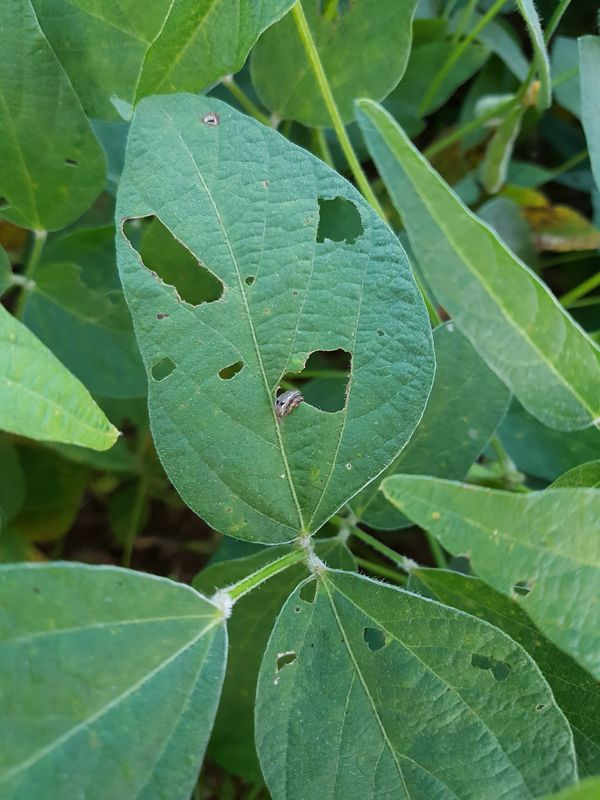Spodoptera_albula: (260, 376, 316, 426)
